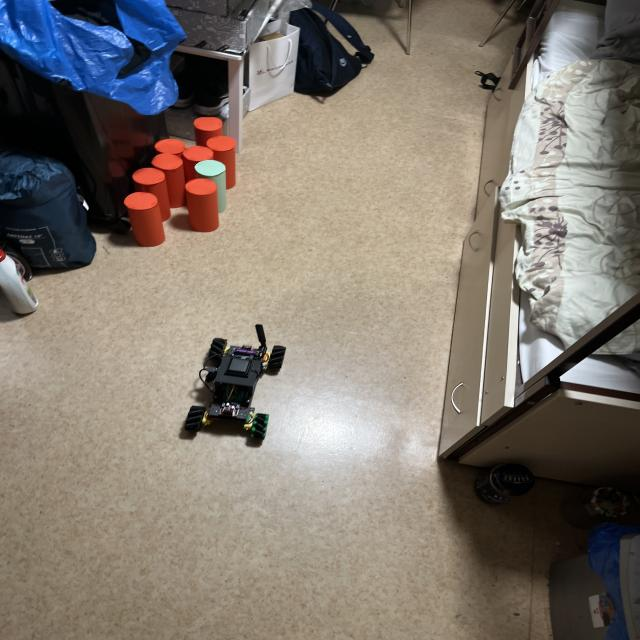robot: (184, 324, 285, 439)
